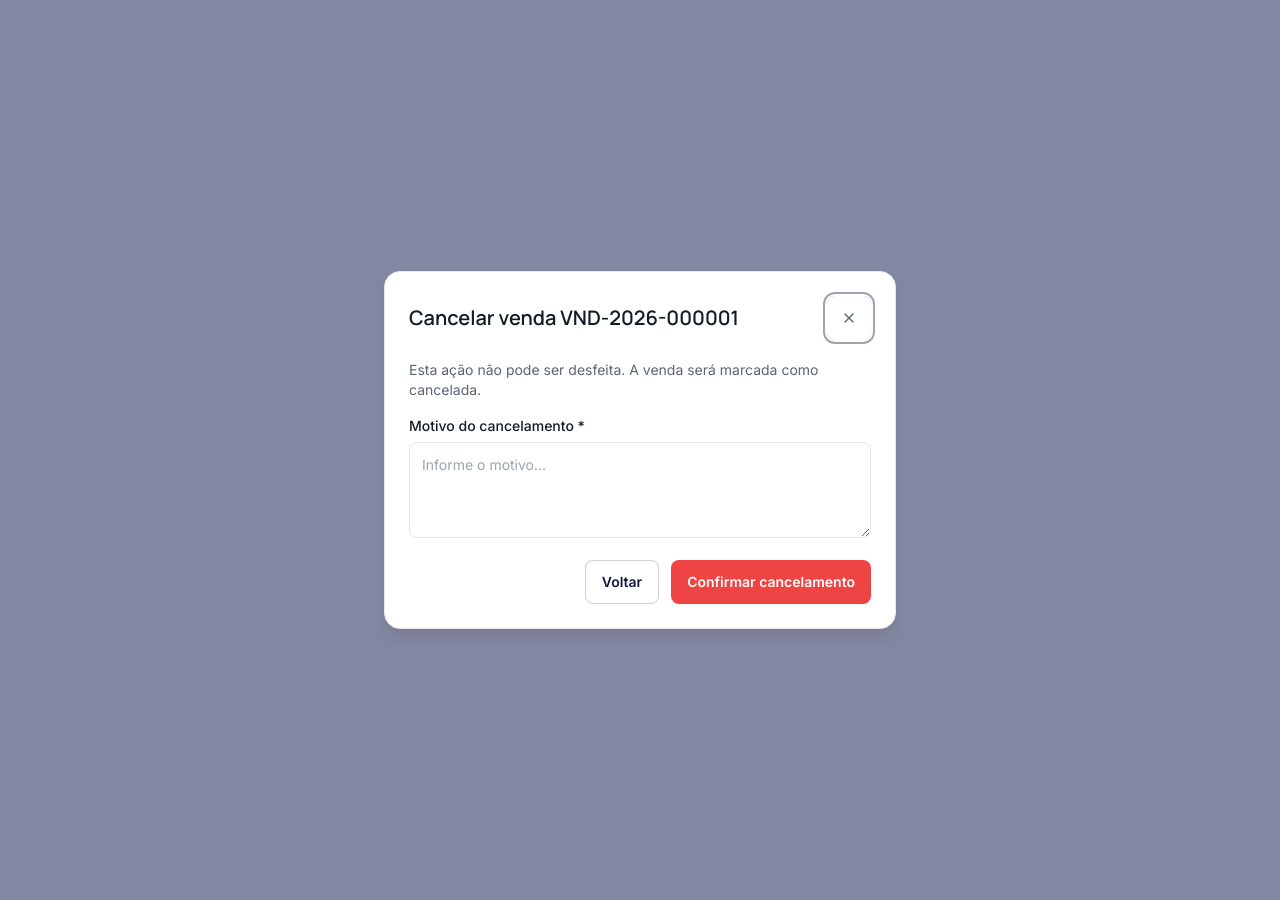
Test: CancelSaleDialog › shows validation error when submitting empty reason
The width and height of the screenshot is (1280, 900).
Click the button "Confirmar cancelamento".
click(771, 582)  # box [671,560,871,604]
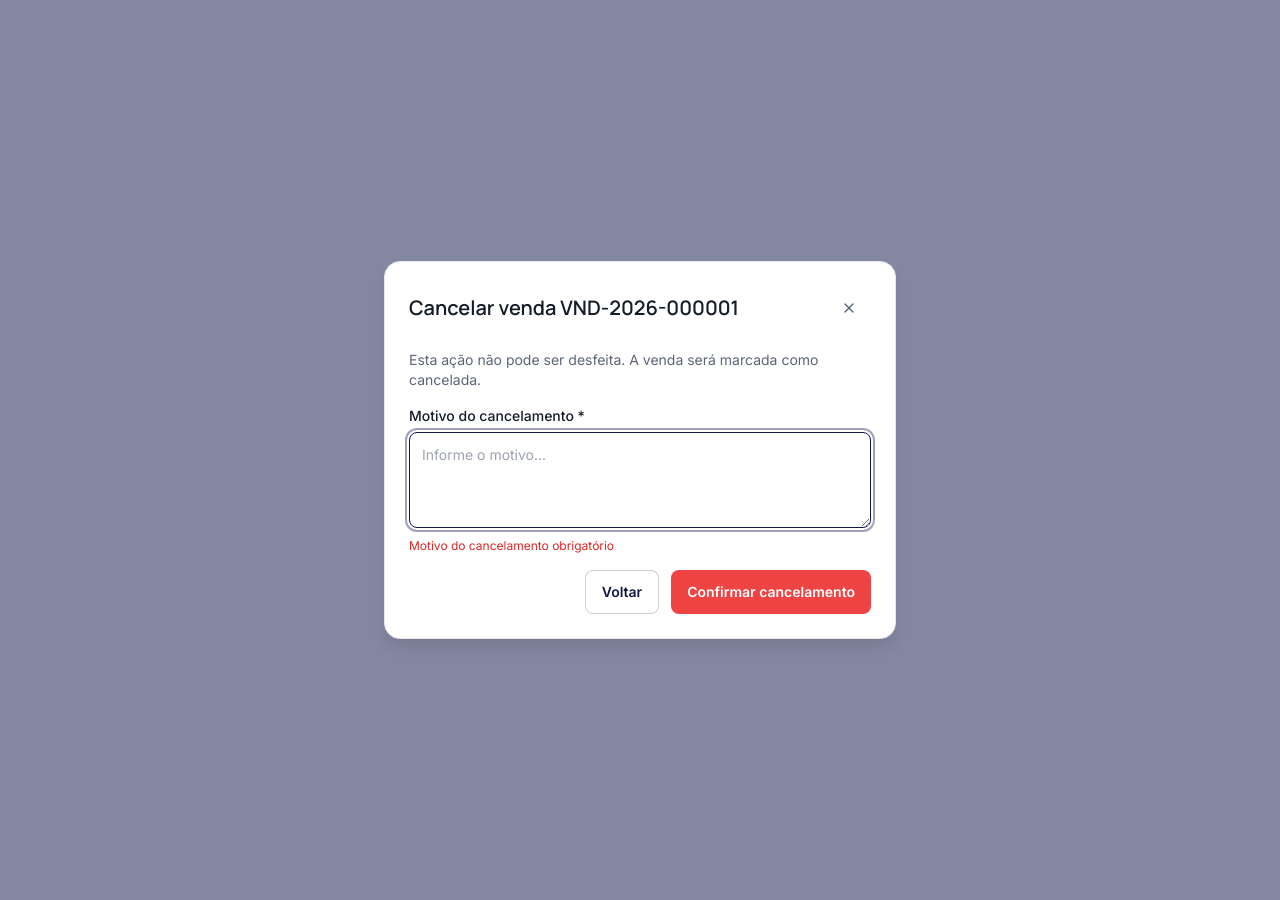
expect the text "Motivo do cancelamento obrigatório" is shown: met, box [409,538,614,553]
